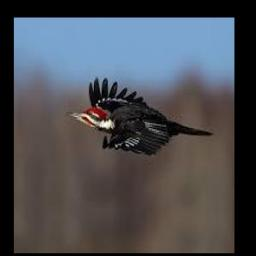Woodpecker: (66, 76, 213, 156)
